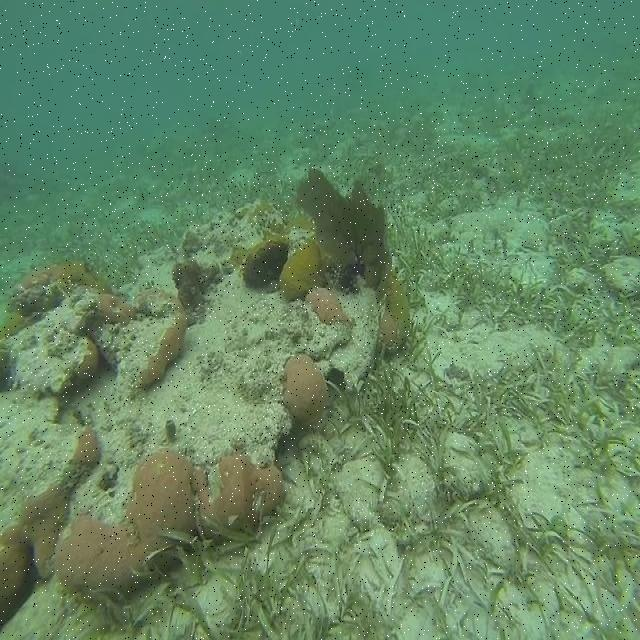reefs: (297, 166, 411, 341)
sea-floor: (0, 173, 411, 631)
